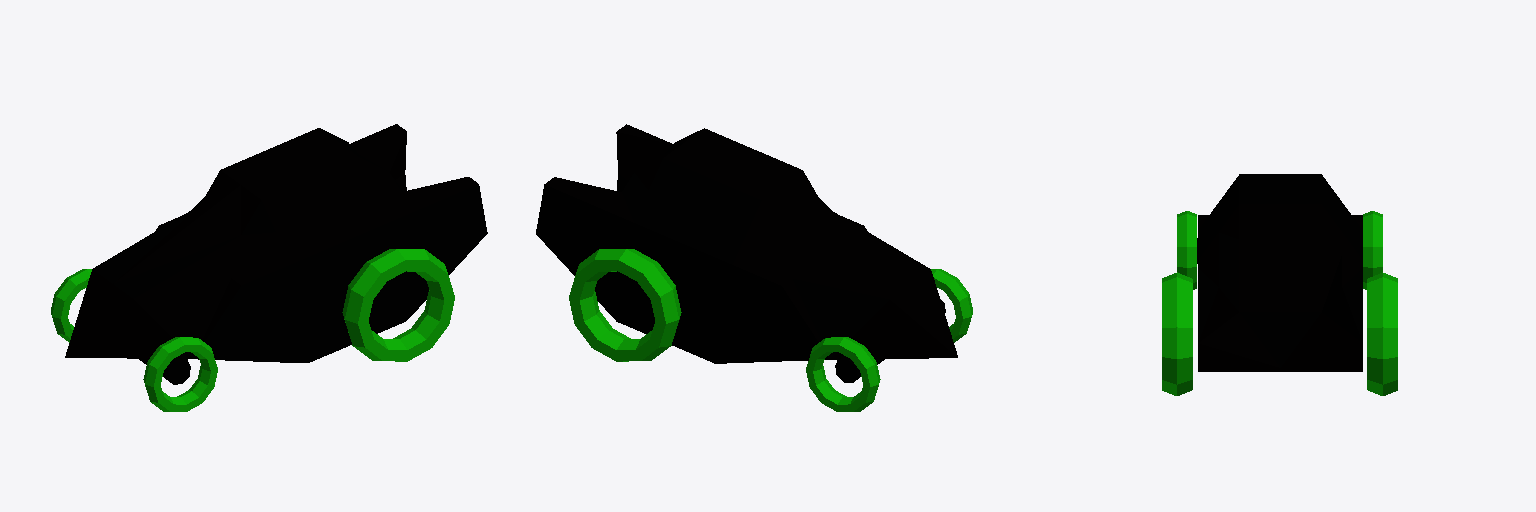
Rendered from Electro-pole-1.obj.
3 renders of one model, left to right at view 1: azimuth 30°, elevation 25°; view 2: azimuth 150°, elevation 25°; view 3: azimuth 270°, elevation 25°, orthographic.
Parts seen in each view (by area): view 1: Cube_Cube.003; view 2: Cube_Cube.003; view 3: Cube_Cube.003.
Part boxes in pixels (left/top/right/bottom): Cube_Cube.003: left=51, top=124, right=487, bottom=411; Cube_Cube.003: left=536, top=124, right=972, bottom=411; Cube_Cube.003: left=1162, top=174, right=1397, bottom=395.
Size of the model in its own units: 7.62 by 3.53 by 4.09.